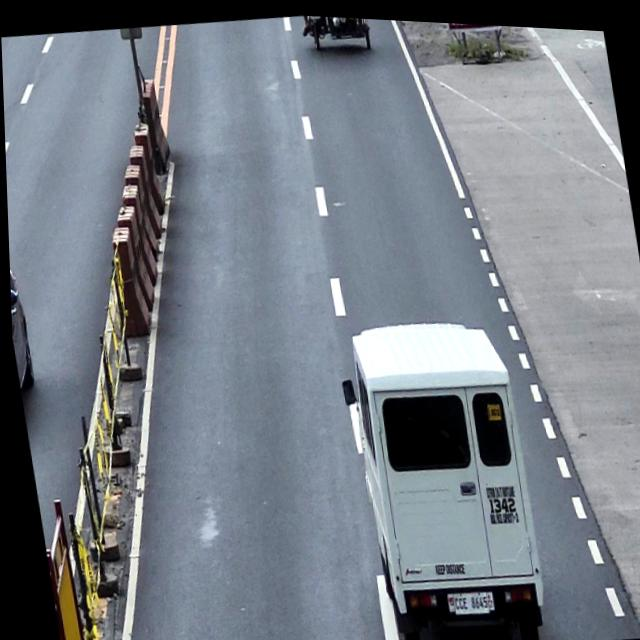Car: (328, 302, 548, 640), (7, 253, 33, 391)
License-Plate: (440, 580, 491, 613)
Tricycle: (299, 12, 373, 53)
